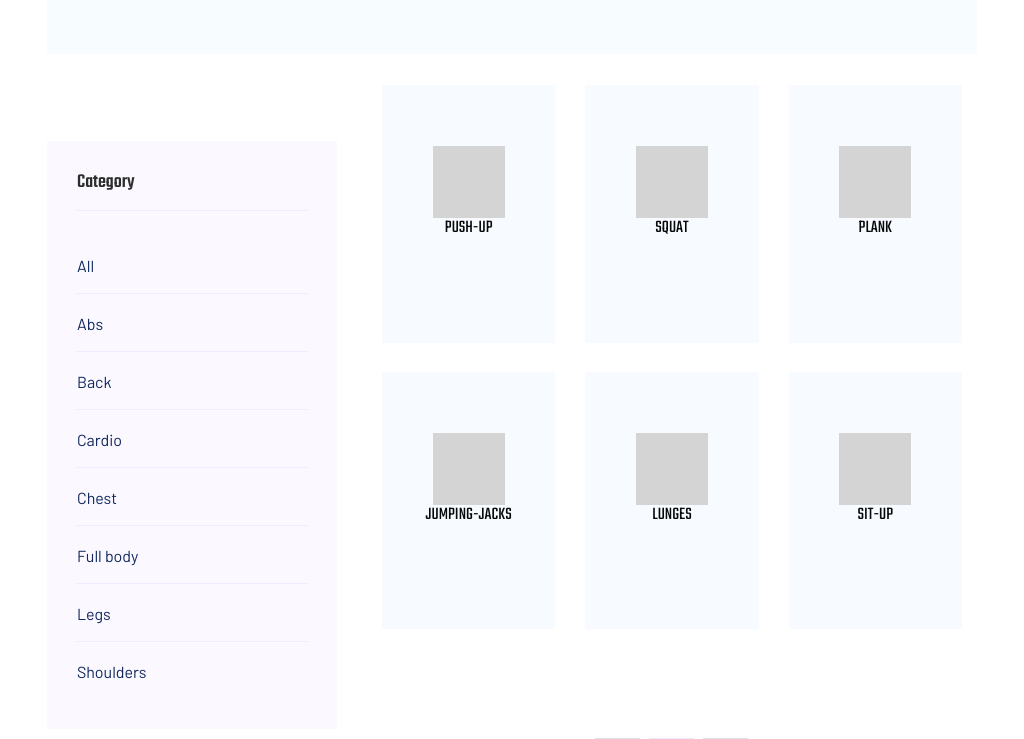
Test: Tracker Component › should filter exercises by sport
This screenshot has width=1024, height=739.
(page scrolled)
Expected: the link "Push-Up" is shown, [445, 215, 492, 241]
Expected: the link "Squat" is shown, [655, 215, 689, 241]
Step 1. Click the text "Cardio" → point(100, 440), box [77, 425, 122, 455]
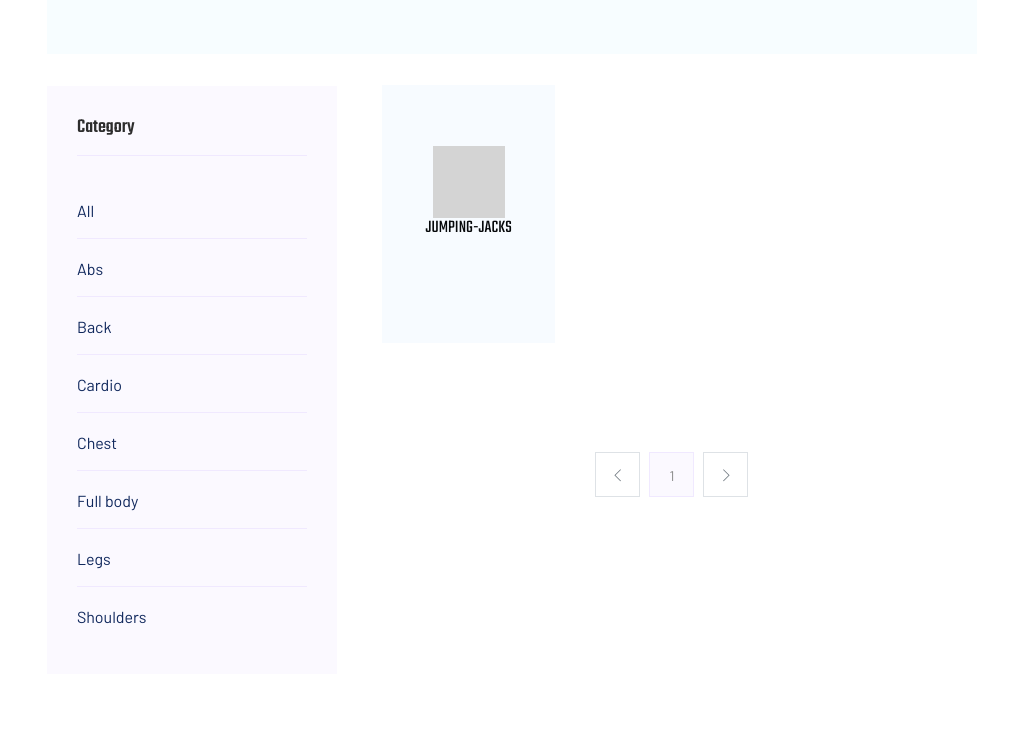
Expected: the link "Push-Up" is gone
Expected: the link "Squat" is gone
Expected: the link "Plank" is gone
